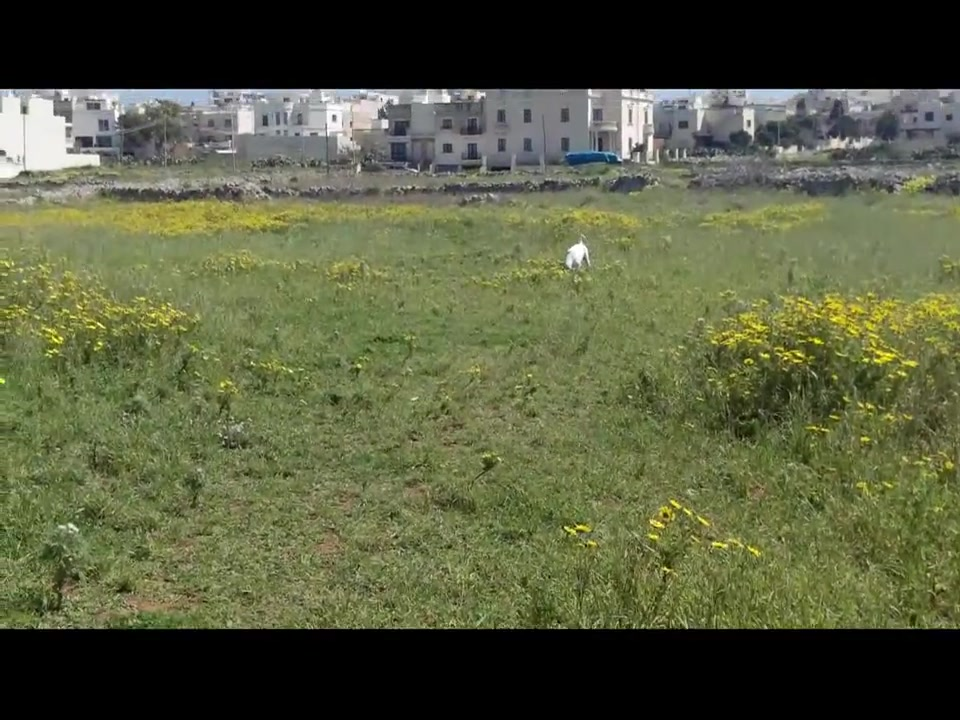dog: (563, 231, 593, 280)
